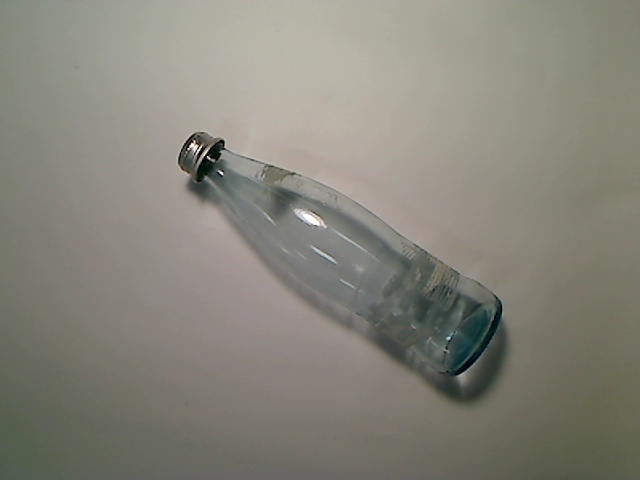bottle: (178, 131, 502, 377)
